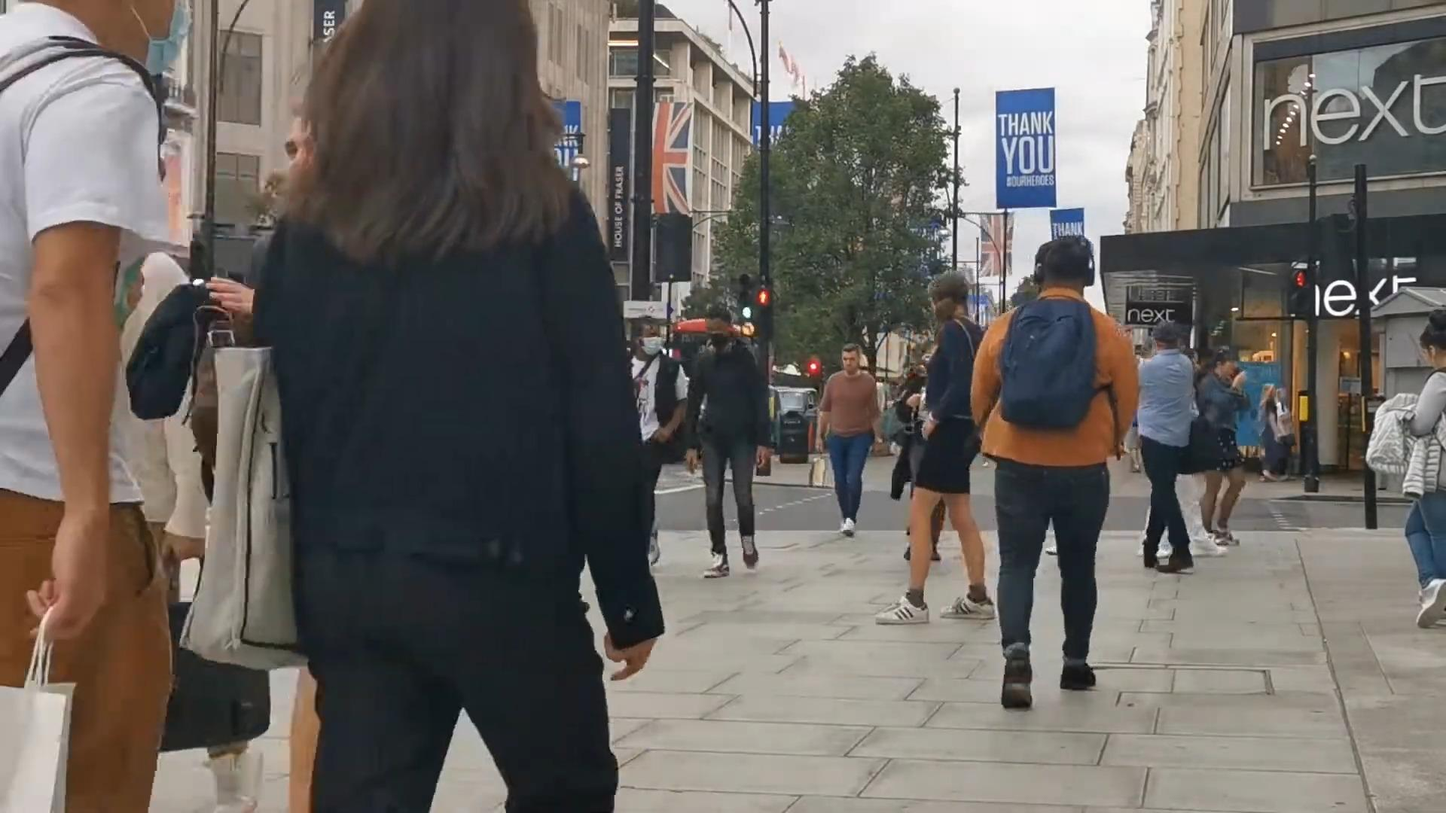no-helmet: (307, 0, 559, 164), (1034, 235, 1094, 292), (928, 269, 969, 323), (1418, 309, 1446, 370), (630, 315, 663, 356), (705, 305, 732, 350), (1212, 348, 1240, 377), (1152, 322, 1182, 349), (841, 343, 860, 374)
